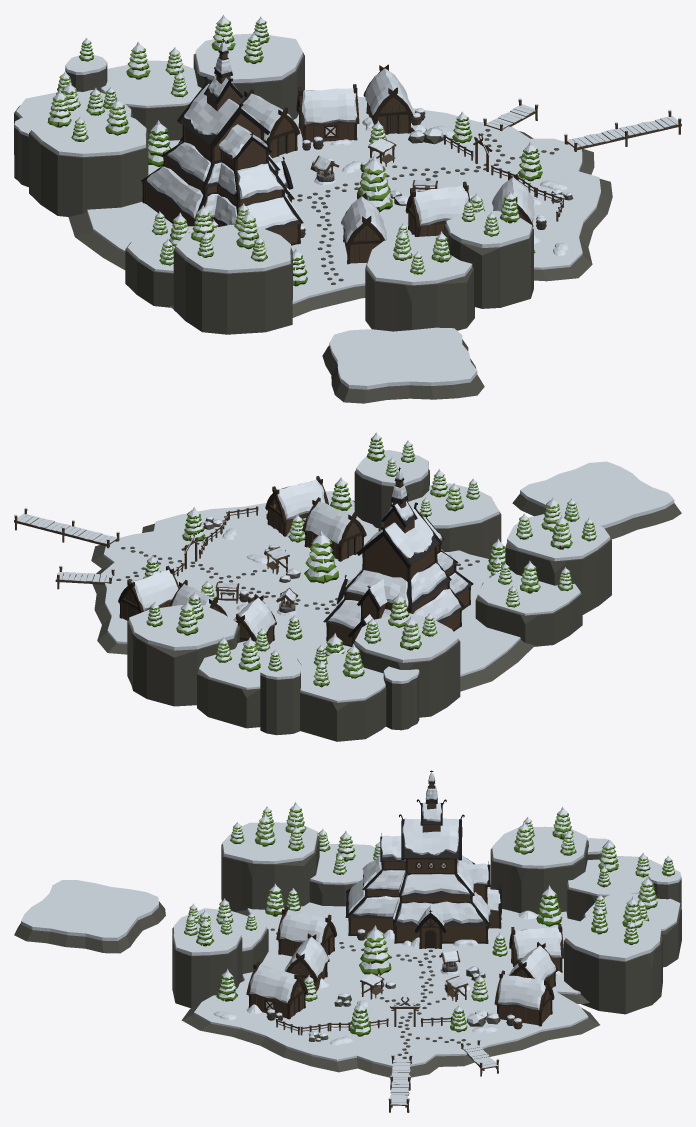
Rendered from Village_Prototype.fbx.
3 renders of one model, top to bottom at view 1: azimuth 30°, elevation 25°; view 2: azimuth 150°, elevation 25°; view 3: azimuth 270°, elevation 25°, orthographic. The views are drawn at different scales.
Visible parts, largest first — view 1: Katto7.015, Plane.558, Vert.069, Plane.588, Plane.731, Vert.088, Plane.734, Vert.086, Vert.082, Plane.737, Vert.089, Vert.077 (+28 smaller); view 2: Katto7.015, Plane.558, Plane.588, Plane.731, Vert.069, Plane.734, Vert.076, Vert.072, Vert.088, Vert.090, Vert.077, Plane.733 (+32 smaller); view 3: Katto7.015, Plane.558, Plane.734, Plane.588, Plane.731, Vert.069, Vert.076, Plane.737, Vert.088, Plane.733, Vert.082, Vert.077 (+21 smaller).
Part boxes in pixels (x1,y1,x2,y2): Katto7.015: [141, 38, 303, 245]; Plane.558: [322, 327, 484, 403]; Vert.069: [29, 108, 148, 216]; Plane.588: [366, 133, 594, 234]; Plane.731: [87, 177, 414, 304]; Vert.088: [173, 247, 292, 334]; Plane.734: [393, 164, 612, 281]; Vert.086: [365, 252, 474, 331]; Vert.082: [444, 224, 533, 308]; Plane.737: [272, 96, 529, 187]; Vert.089: [176, 224, 290, 273]; Vert.077: [195, 33, 302, 82]; Katto7.015: [323, 467, 473, 646]; Plane.558: [512, 461, 681, 539]; Plane.588: [91, 514, 304, 590]; Plane.731: [254, 526, 520, 676]; Vert.069: [353, 613, 460, 717]; Plane.734: [142, 491, 375, 592]; Vert.076: [127, 620, 239, 706]; Vert.072: [300, 687, 386, 741]; Vert.088: [505, 538, 611, 614]; Vert.090: [475, 582, 582, 646]; Vert.077: [129, 605, 237, 650]; Plane.733: [225, 593, 351, 664]; Katto7.015: [345, 770, 501, 948]; Plane.558: [14, 880, 165, 953]; Plane.734: [181, 980, 424, 1072]; Plane.588: [259, 991, 495, 1077]; Plane.731: [242, 881, 517, 995]; Vert.069: [490, 826, 588, 914]; Vert.076: [564, 935, 662, 1014]; Plane.737: [372, 953, 588, 1056]; Vert.088: [221, 835, 319, 911]; Plane.733: [422, 911, 580, 994]; Vert.082: [172, 937, 242, 1008]; Vert.077: [565, 913, 661, 961].
Size of the model in its own units: 6295 by 2142 by 7345.
Materials: 12 (1 with a texture image).
